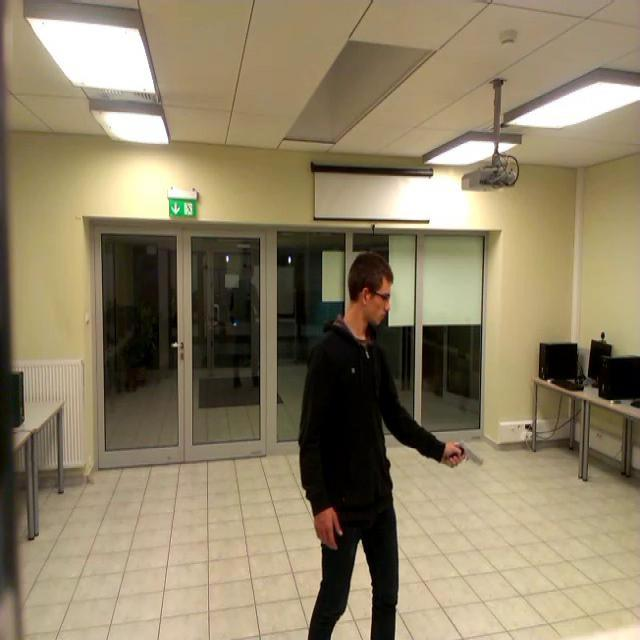weapon: (446, 440, 482, 474)
